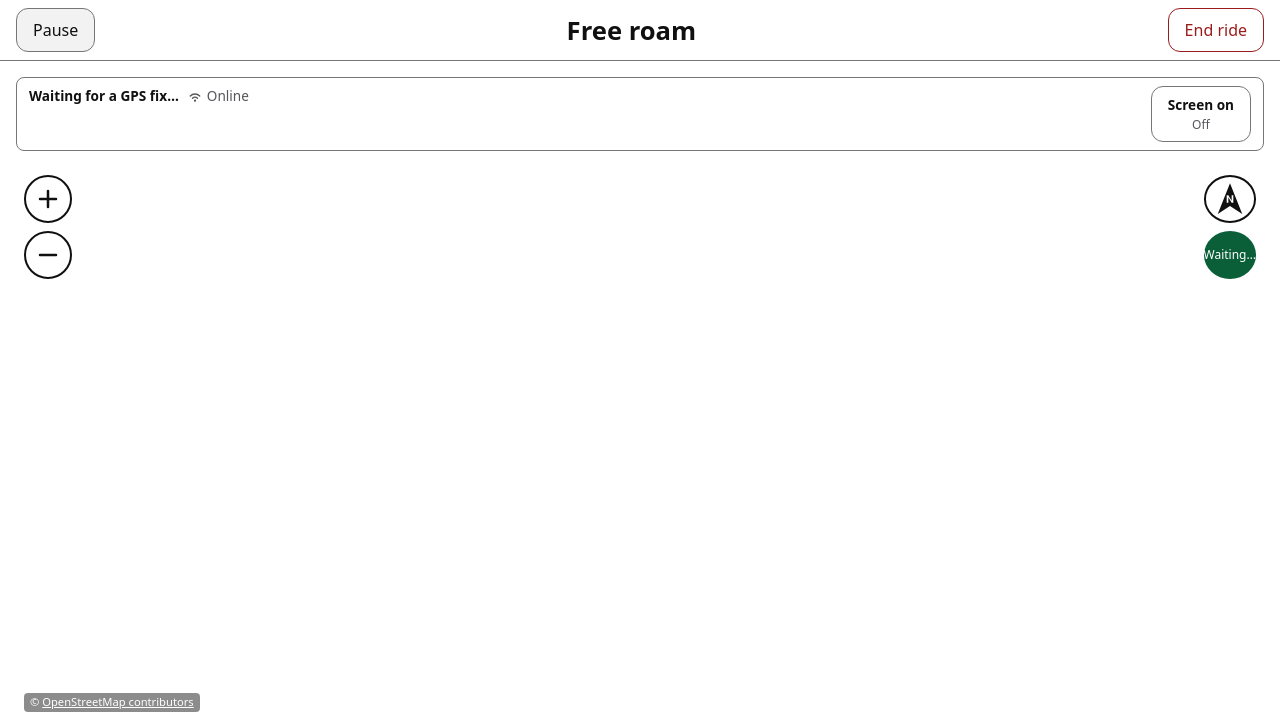
Test: FreeRoamScreen Pause (backlog item 55) › moves focus to the Pause button after a failed pause
Click the button "Pause".
click(56, 30)  # box [16, 8, 95, 52]
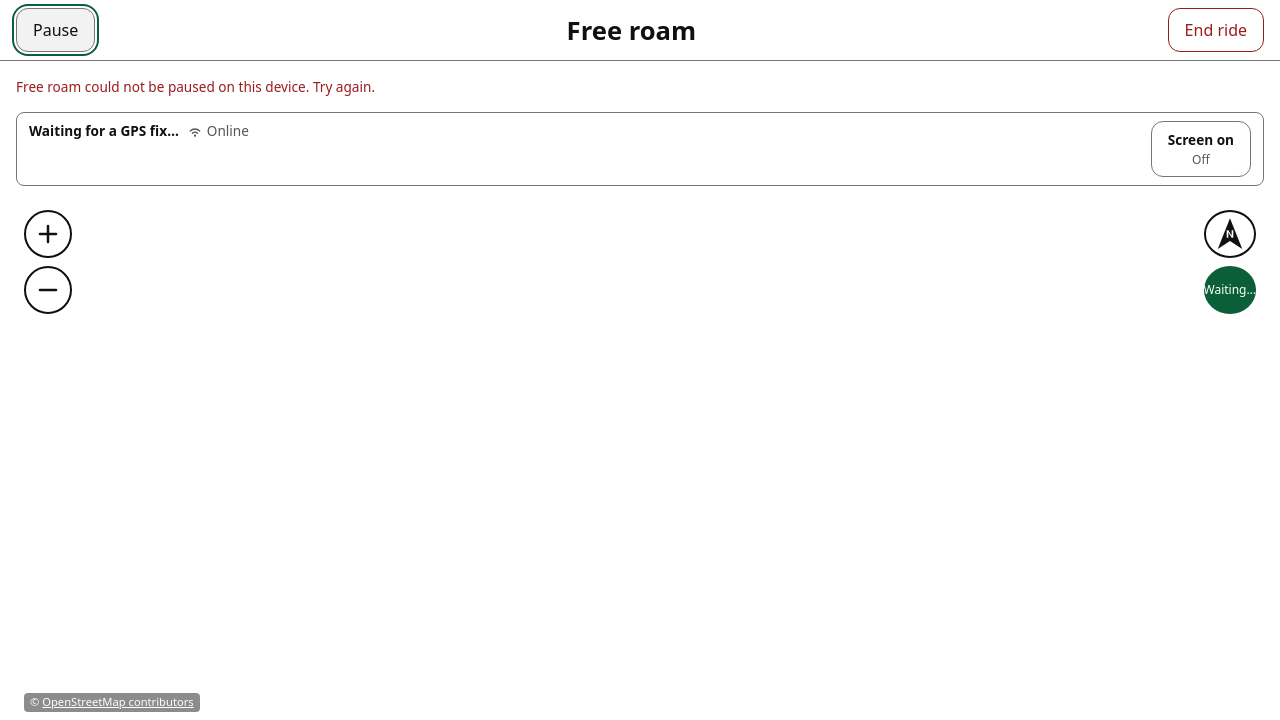
Now the message "Free roam could not be paused on this device. Try again." is shown, box [16, 77, 375, 96]
